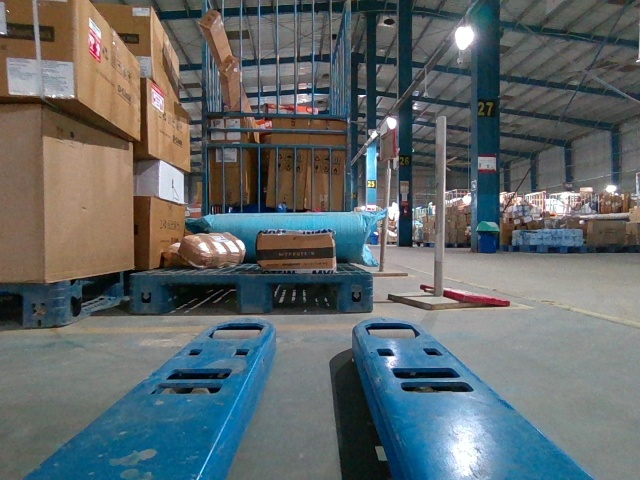block: (21, 284, 66, 331), (337, 271, 375, 317), (129, 275, 162, 317), (240, 271, 268, 313)
front: (130, 273, 372, 313)
hole pallet: (158, 280, 240, 316), (264, 279, 343, 316)
